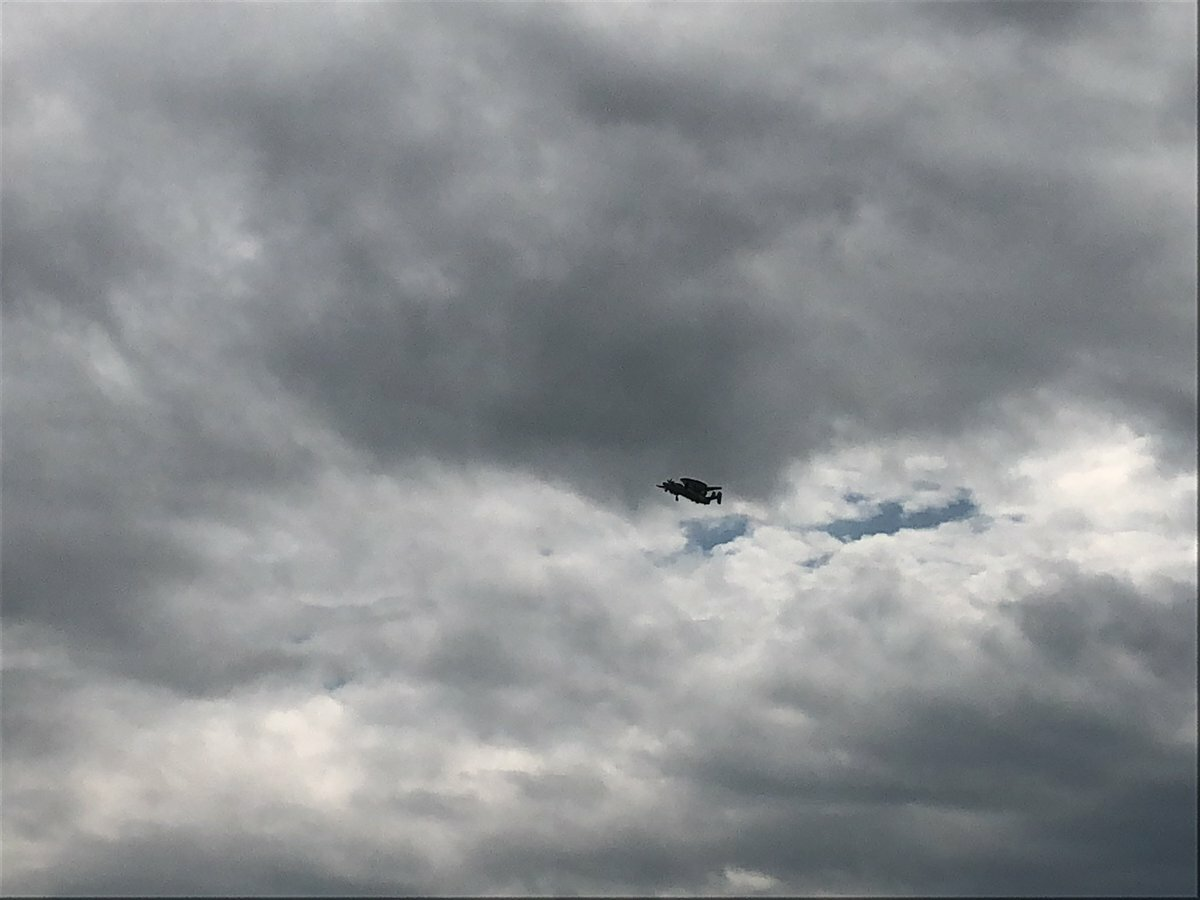E2: (655, 477, 723, 506)
